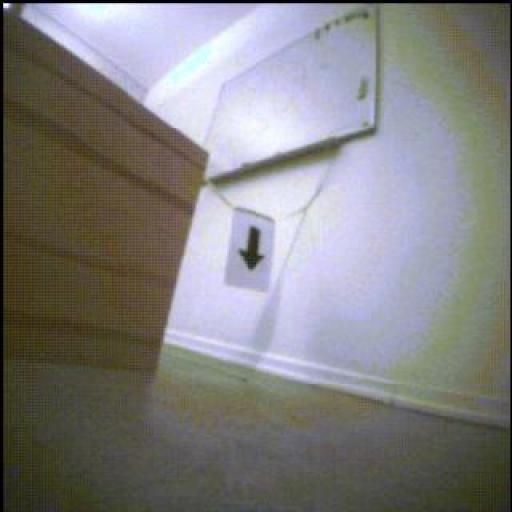arrow: (239, 227, 265, 272)
